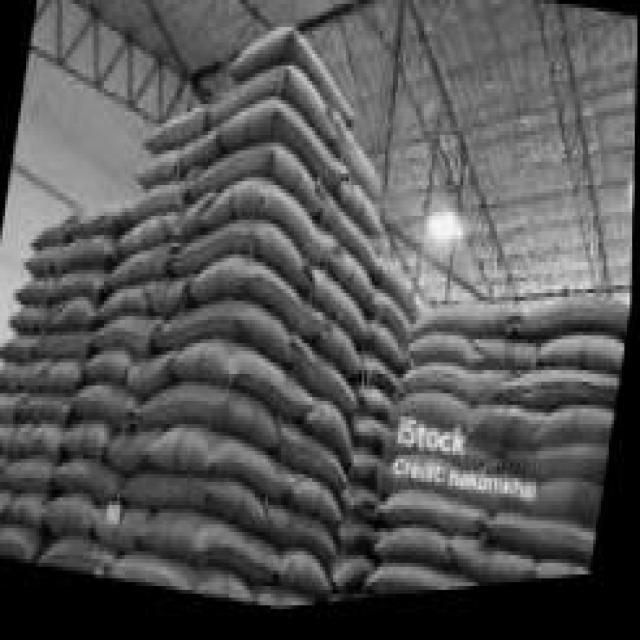gunny_bag: (236, 31, 358, 134), (181, 194, 323, 262), (179, 353, 312, 423), (142, 520, 283, 585), (212, 75, 335, 147), (173, 222, 307, 286), (130, 474, 267, 535), (155, 443, 292, 503), (161, 307, 290, 369), (115, 555, 253, 607), (197, 155, 320, 212), (153, 397, 275, 451), (499, 525, 598, 581), (322, 206, 391, 286), (469, 553, 592, 594), (281, 431, 355, 496), (296, 346, 360, 418), (385, 501, 480, 548), (519, 383, 622, 424), (376, 568, 484, 606), (339, 133, 390, 211), (315, 278, 373, 344), (404, 374, 504, 410), (526, 317, 631, 351), (55, 457, 123, 509), (275, 515, 339, 563), (419, 316, 510, 347), (292, 481, 347, 530), (38, 541, 110, 577), (147, 108, 203, 152), (545, 427, 615, 462), (113, 246, 162, 295), (126, 180, 177, 225), (78, 389, 141, 424), (89, 321, 153, 355), (48, 499, 102, 534), (62, 232, 113, 269), (554, 357, 626, 382), (20, 388, 73, 420), (53, 279, 104, 303), (0, 530, 33, 560), (12, 462, 52, 485), (11, 305, 45, 332), (262, 599, 322, 614), (0, 421, 6, 458)
